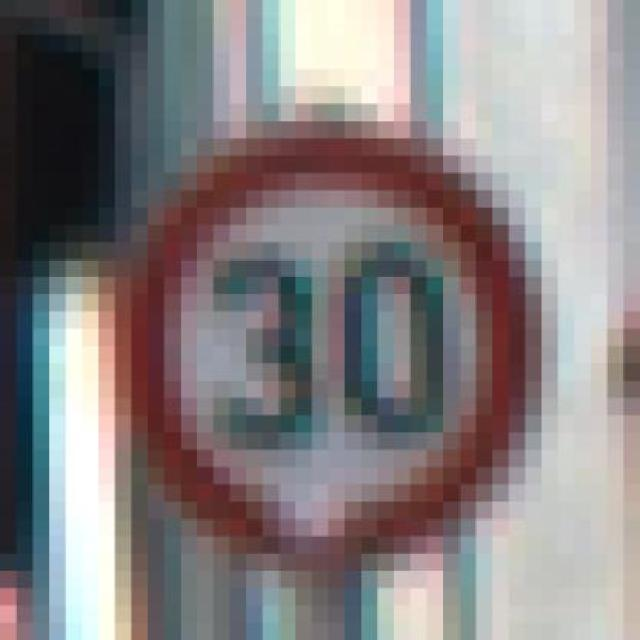Speed Limit 30 KMPh: (82, 104, 590, 588)
